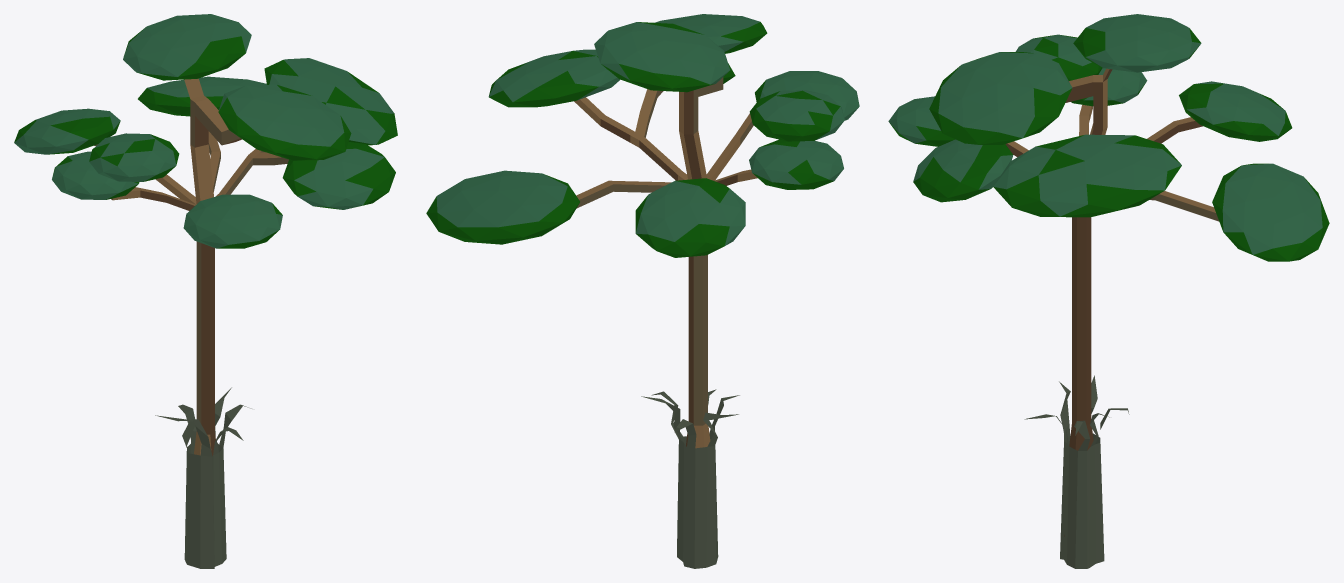
The model's file is Tree.glb.
The picture shows the model from 3 angles, left to right: view 1: azimuth 30°, elevation 25°; view 2: azimuth 150°, elevation 25°; view 3: azimuth 270°, elevation 25°; orthographic projection. The views are drawn at different scales.
Visible parts, largest first — view 1: LEAVES, BARK, GRASS; view 2: LEAVES, BARK, GRASS; view 3: LEAVES, BARK, GRASS.
Part boxes in pixels (bbox=[...]): LEAVES: bbox=[14, 14, 397, 248]; BARK: bbox=[94, 78, 288, 455]; GRASS: bbox=[155, 387, 251, 568]; LEAVES: bbox=[426, 14, 859, 257]; BARK: bbox=[574, 77, 757, 448]; GRASS: bbox=[641, 389, 739, 568]; LEAVES: bbox=[888, 14, 1329, 261]; BARK: bbox=[1005, 68, 1219, 536]; GRASS: bbox=[1024, 375, 1129, 568].
Size of the model in its own units: 22.28 by 34.18 by 25.38.
